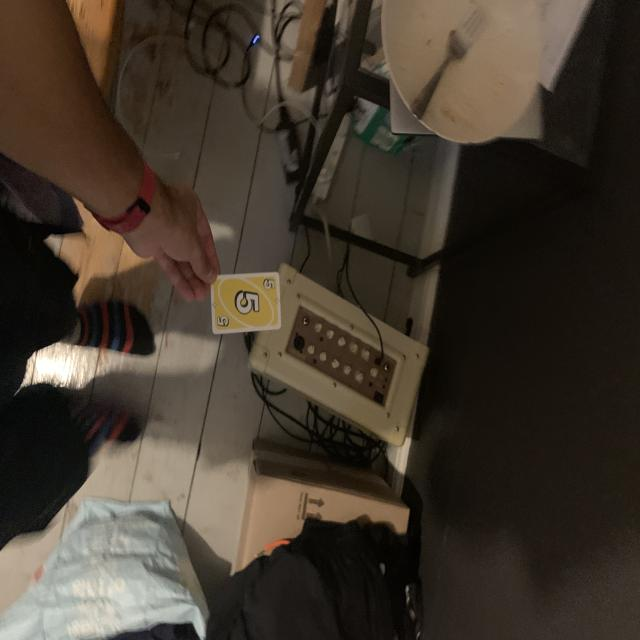lyellow-5: (260, 276, 276, 292)
